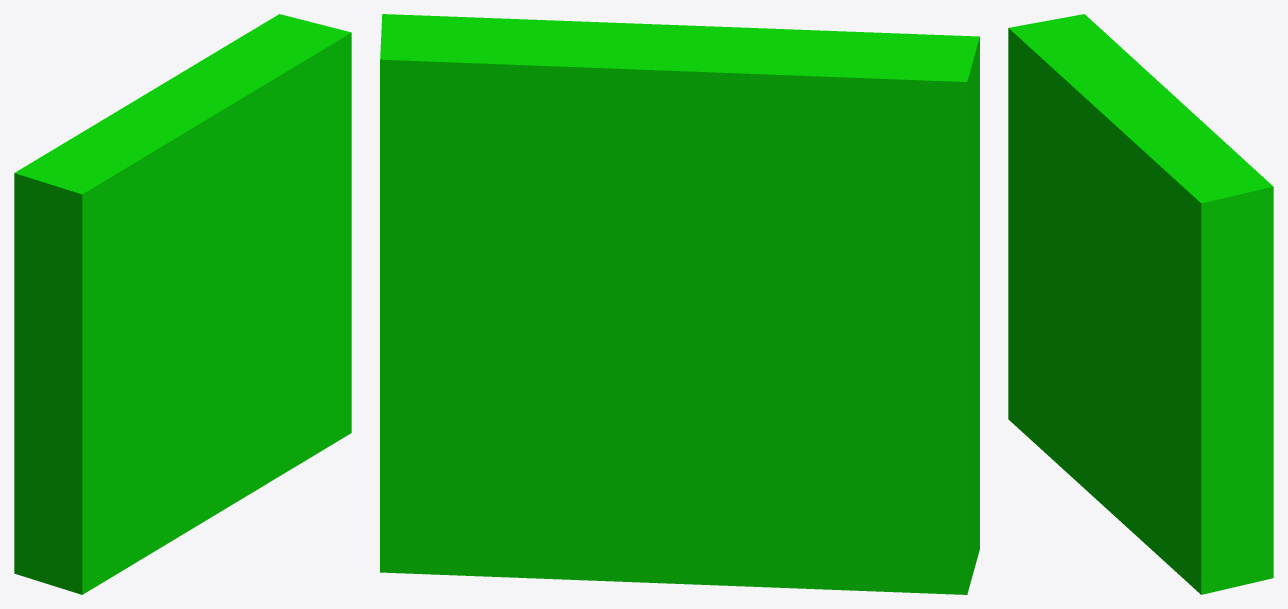
3 views of the same model, side by side, from view 1: azimuth 30°, elevation 25°; view 2: azimuth 150°, elevation 25°; view 3: azimuth 270°, elevation 25° (orthographic). The views are drawn at different scales.
Visible parts, largest first — view 1: Plane.021; view 2: Plane.021; view 3: Plane.021.
Boxes of the visible parts, x1,y1,x2,y2 form: Plane.021: (14,14,351,594); Plane.021: (380,14,979,594); Plane.021: (1008,14,1273,594).
Bounding box in the file's own units: 594 × 572 × 351.
